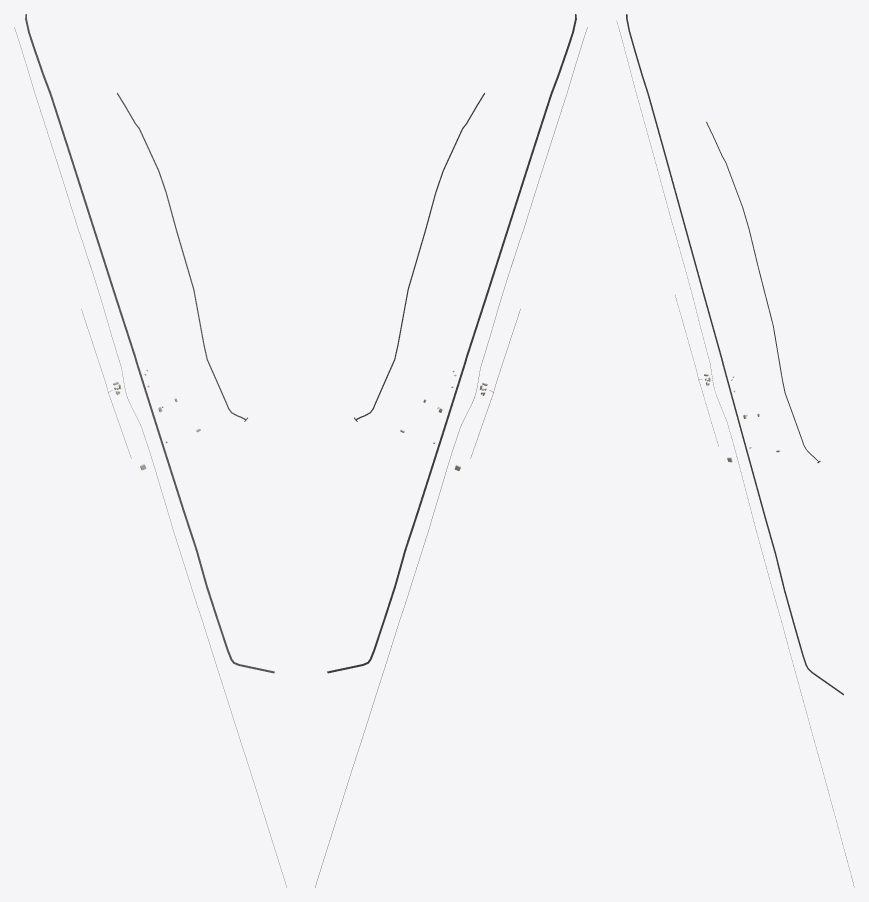
The model's file is historic-palestine-01_18_3426_3123.glb.
3 views of the same model, side by side, from view 1: azimuth 30°, elevation 25°; view 2: azimuth 150°, elevation 25°; view 3: azimuth 330°, elevation 25° (orthographic). The views are drawn at different scales.
Parts seen in each view (by area): view 1: Road Philadelphi Corridor, Road, Road .004; view 2: Road Philadelphi Corridor, Road, Road .004; view 3: Road Philadelphi Corridor, Road, Road .004.
Boxes of the visible parts, box(x1,y1,x2,y2) form: Road Philadelphi Corridor: box(25, 14, 274, 673); Road: box(14, 27, 286, 887); Road .004: box(117, 93, 246, 420); Road Philadelphi Corridor: box(327, 14, 576, 673); Road: box(315, 27, 587, 887); Road .004: box(355, 93, 484, 419); Road Philadelphi Corridor: box(626, 14, 843, 695); Road: box(616, 21, 854, 887); Road .004: box(706, 121, 818, 461).
Bounding box in the file's own units: 1189 × 3905 × 9.09.
